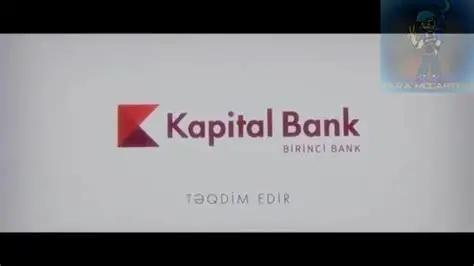Kapital Bank: (113, 101, 161, 149)
